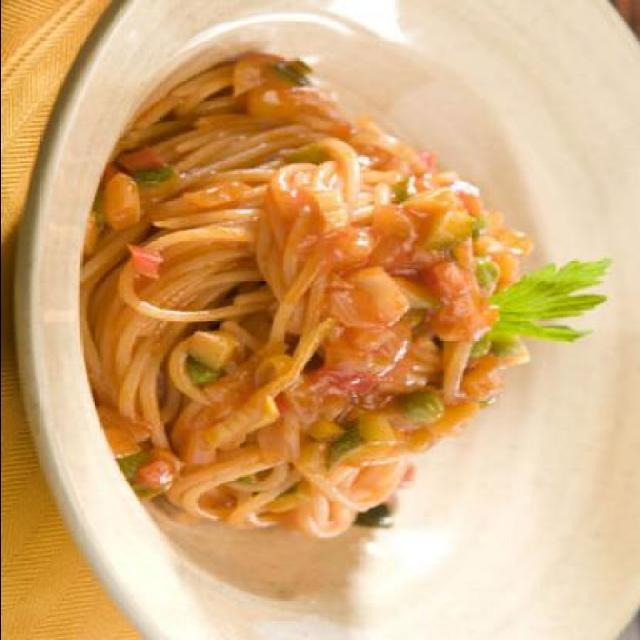Pasta al ragu: (45, 51, 587, 589)
